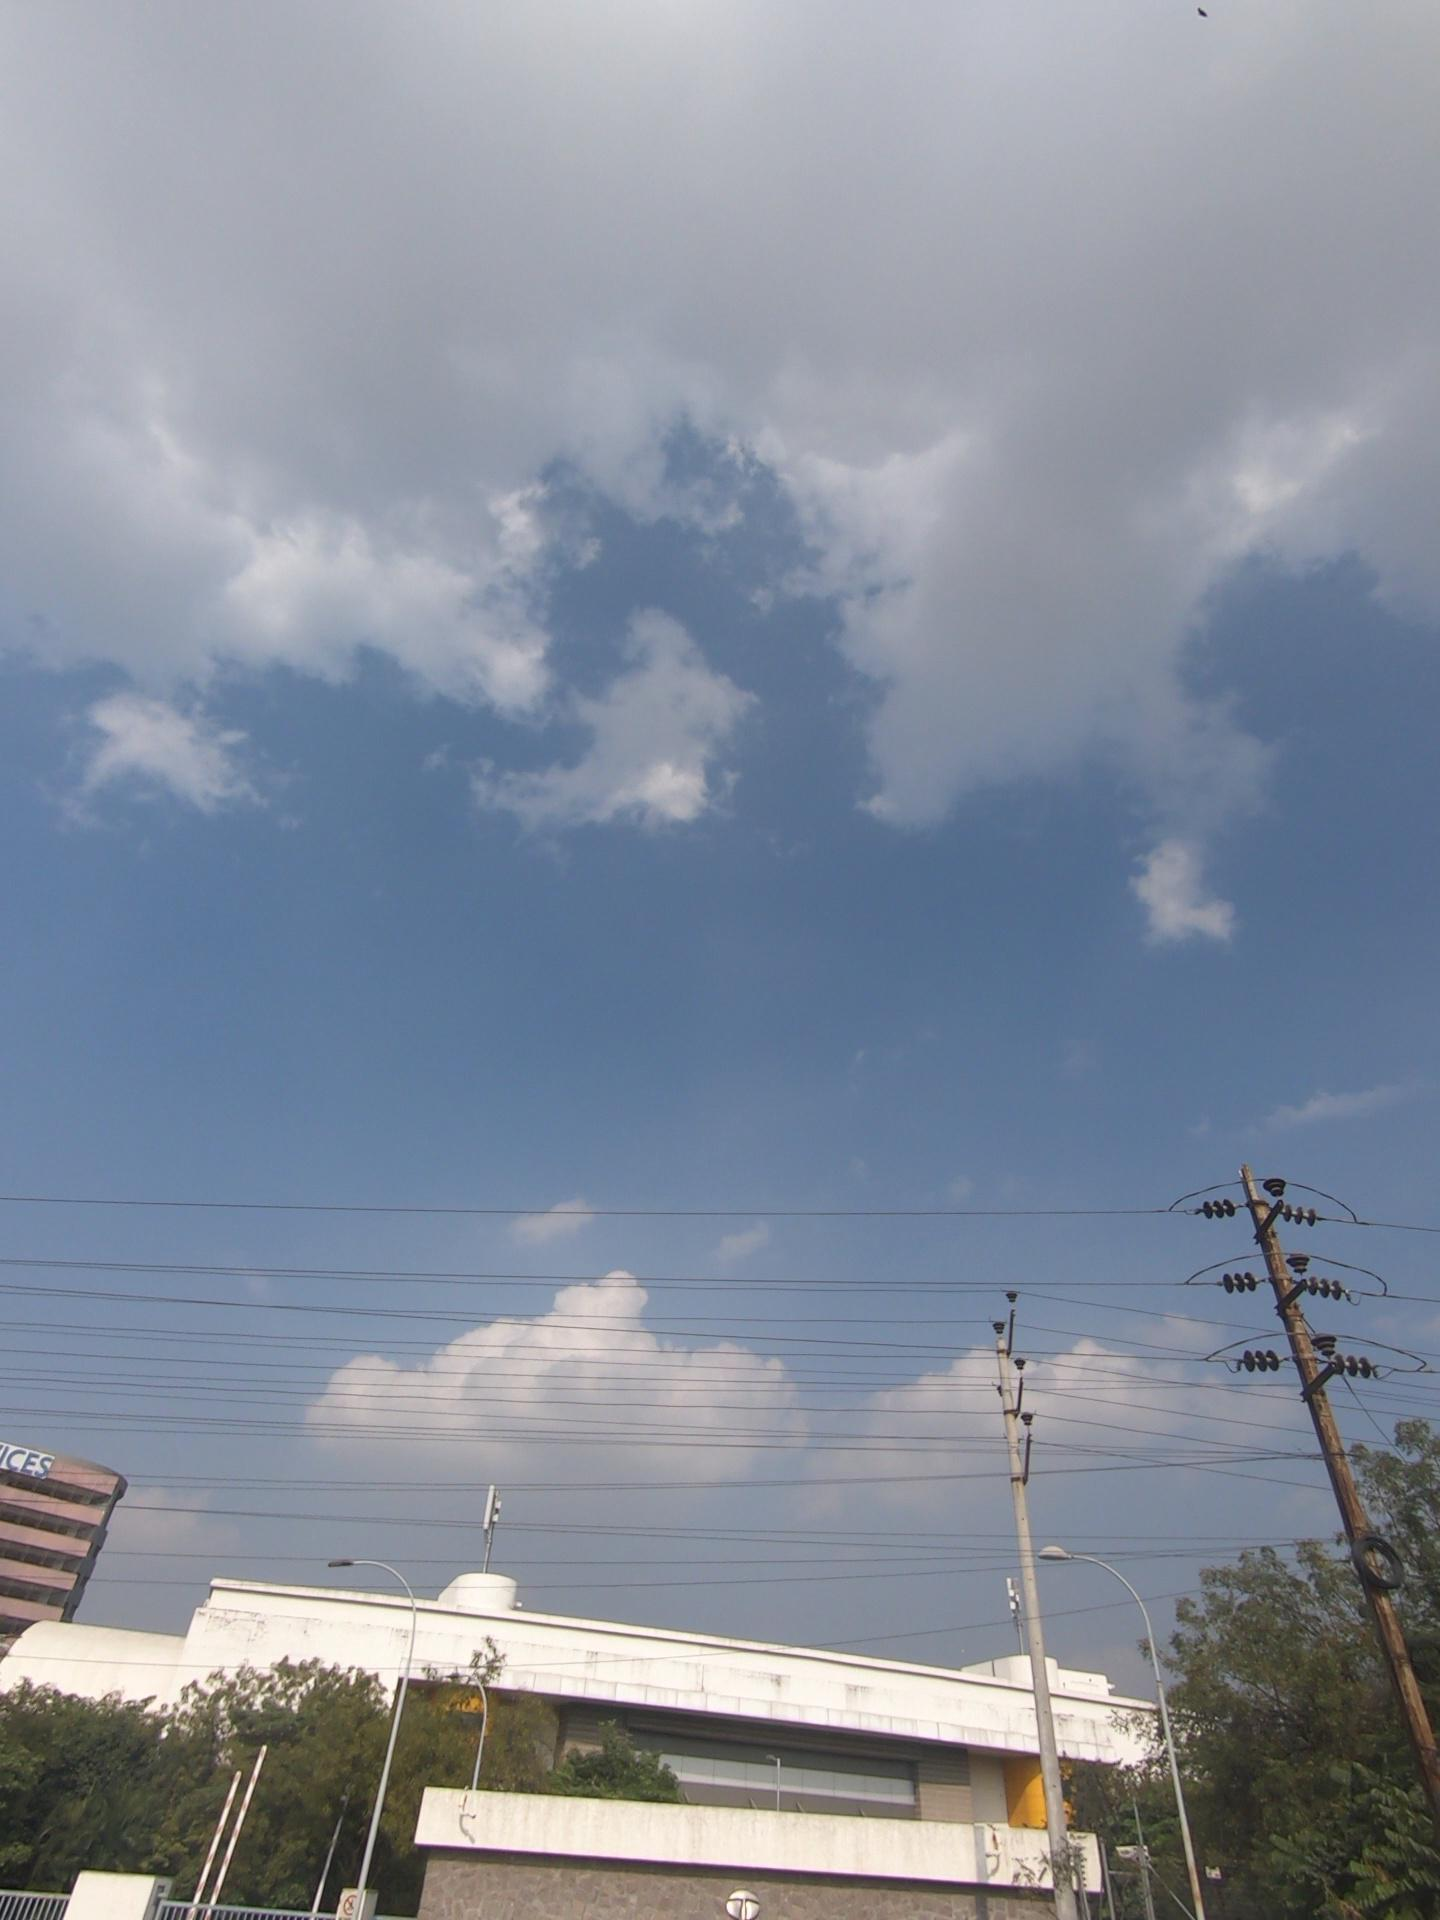off: (119, 1606, 496, 1903)
